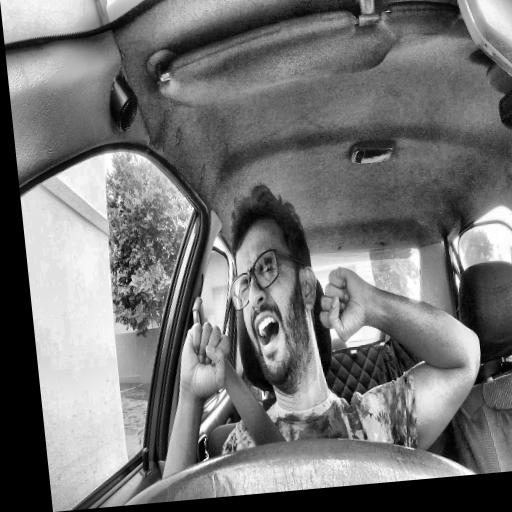drowsy: (218, 180, 329, 391)
